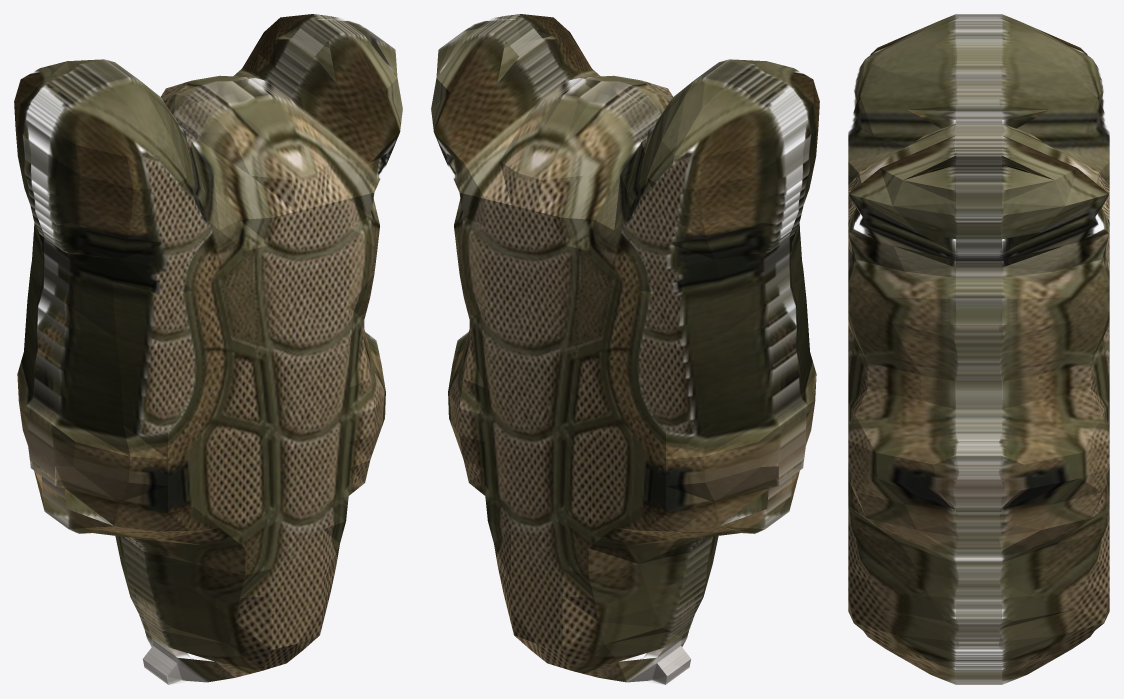
The model's file is puig-apex-back-protector-145.glb.
The picture shows the model from 3 angles, left to right: view 1: azimuth 30°, elevation 25°; view 2: azimuth 150°, elevation 25°; view 3: azimuth 270°, elevation 25°; orthographic projection. The views are drawn at different scales.
Parts seen in each view (by area): view 1: world; view 2: world; view 3: world.
Boxes of the visible parts, x1,y1,x2,y2 form: world: [14, 14, 402, 684]; world: [431, 14, 819, 684]; world: [848, 14, 1109, 684].
Size of the model in its own units: 0.5872 by 1 by 0.4.
1 material, 1 textured.
